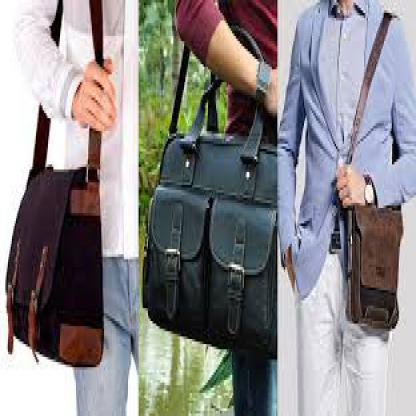morral: (143, 100, 276, 362), (1, 113, 124, 388), (338, 195, 414, 339)
